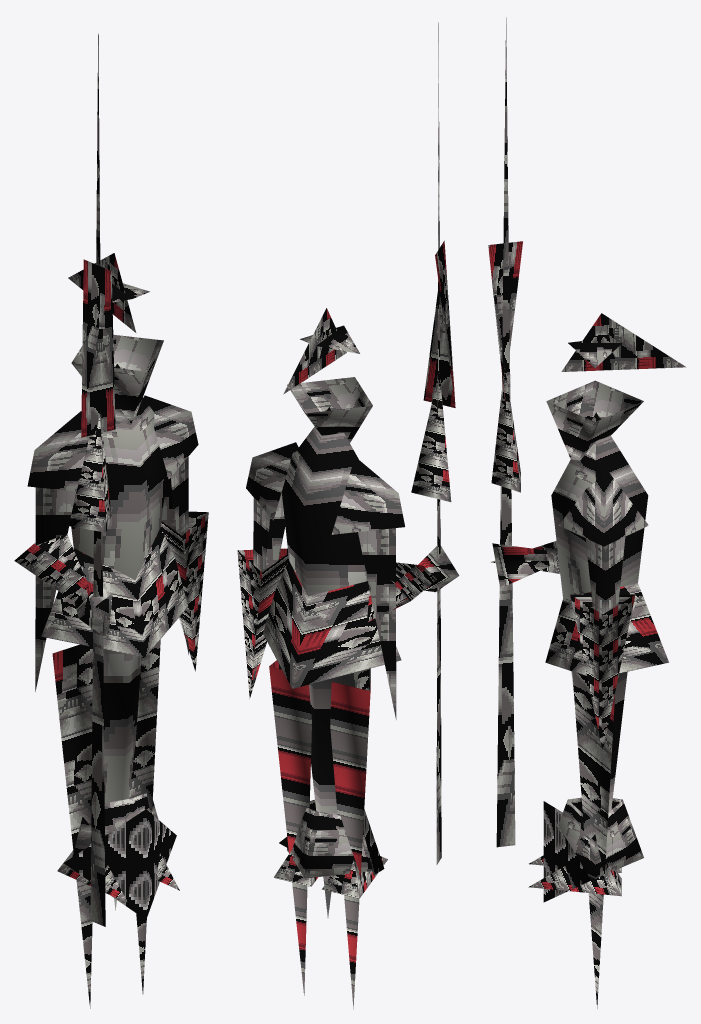
File: 3178IMFY05_10.gltf
3 renders of one model, left to right at view 1: azimuth 30°, elevation 25°; view 2: azimuth 150°, elevation 25°; view 3: azimuth 270°, elevation 25°, orthographic. The views are drawn at different scales.
Parts seen in each view (by area): view 1: 3178IMFY05_10; view 2: 3178IMFY05_10; view 3: 3178IMFY05_10.
Part boxes in pixels (bbox=[...]): 3178IMFY05_10: bbox=[14, 33, 208, 1008]; 3178IMFY05_10: bbox=[237, 22, 459, 1009]; 3178IMFY05_10: bbox=[488, 17, 686, 1008].
Size of the model in its own units: 0.6533 by 3.42 by 0.6458.
Materials: 3 (3 with a texture image).
